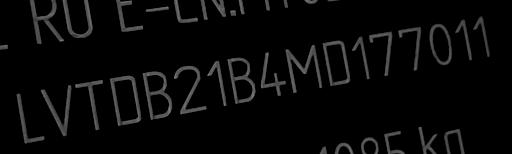letter: (281, 44, 325, 96), (106, 72, 144, 127), (172, 62, 210, 116), (40, 84, 78, 137), (318, 38, 356, 87), (12, 90, 48, 141), (138, 69, 174, 120), (365, 28, 399, 80), (222, 54, 256, 104), (72, 77, 104, 130), (256, 49, 288, 101), (396, 24, 424, 75), (428, 18, 454, 67), (204, 59, 226, 109), (473, 12, 495, 61), (350, 34, 372, 82), (454, 15, 476, 62)
